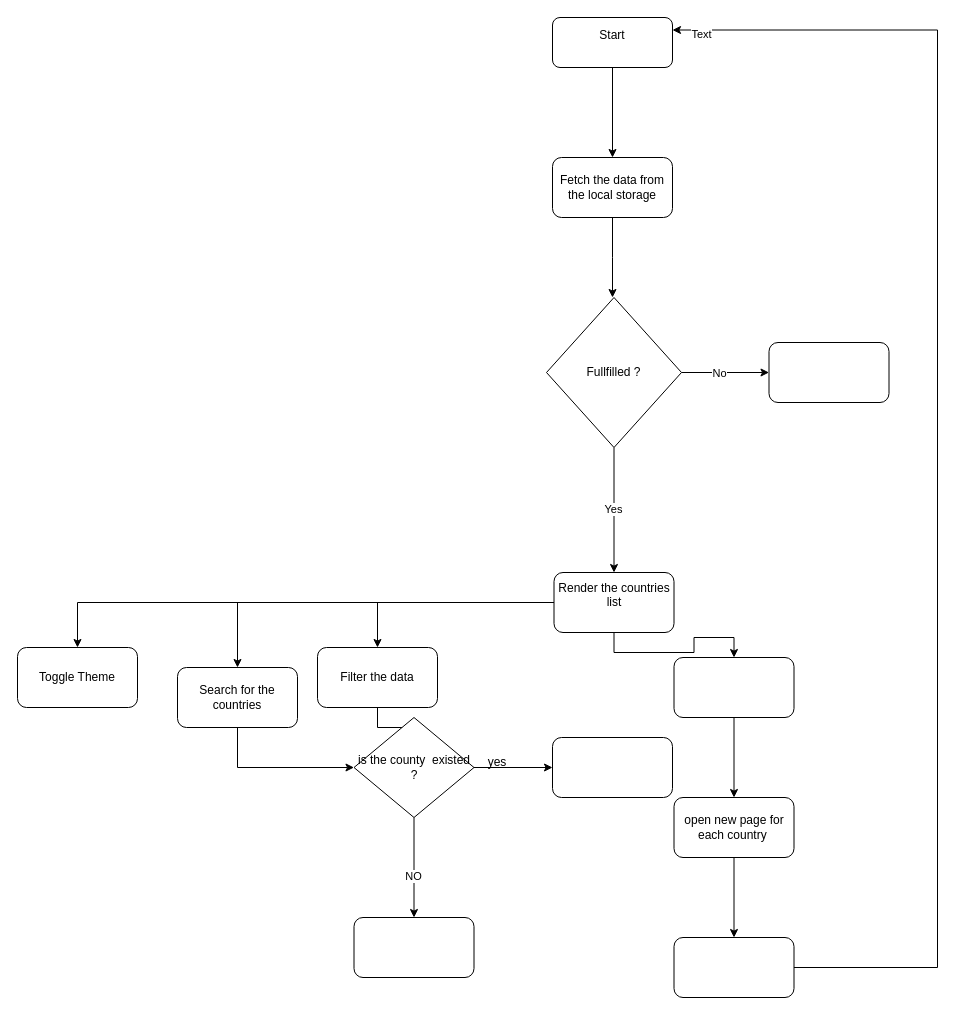
Some shapes in this 963 by 1015 pixel diagram are drawn without their labels. Here are the shapes that lost their labels. From the top down, the box of each, then its label:
(768, 342, 889, 402): Fetch the data from the APi
(673, 656, 794, 718): choose ftom the country list
(552, 736, 672, 798): show them based on all name of the country or some of them
(353, 916, 474, 978): NOT FOUND
(673, 936, 794, 998): Back button to
